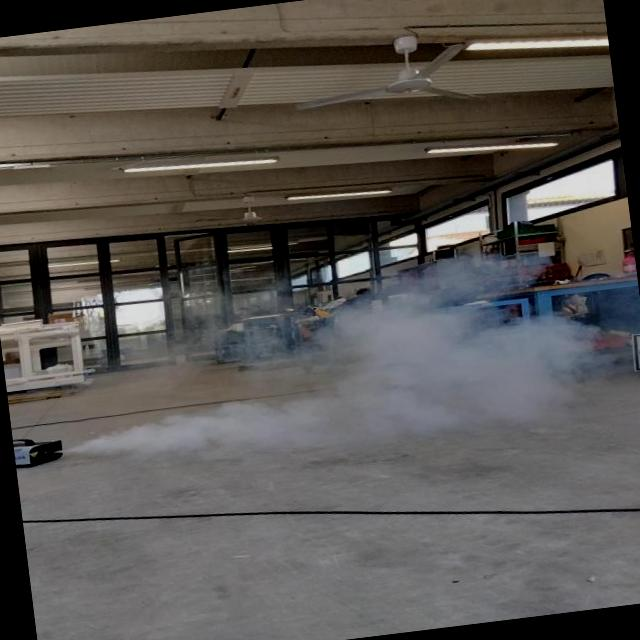smoke: (35, 237, 610, 508)
